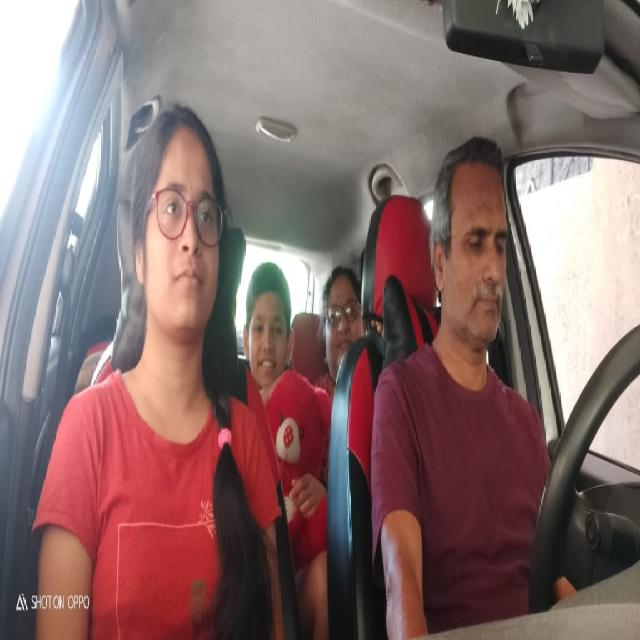drowsy: (425, 123, 519, 366)
person: (128, 98, 230, 351), (243, 252, 299, 392), (314, 261, 366, 379)
